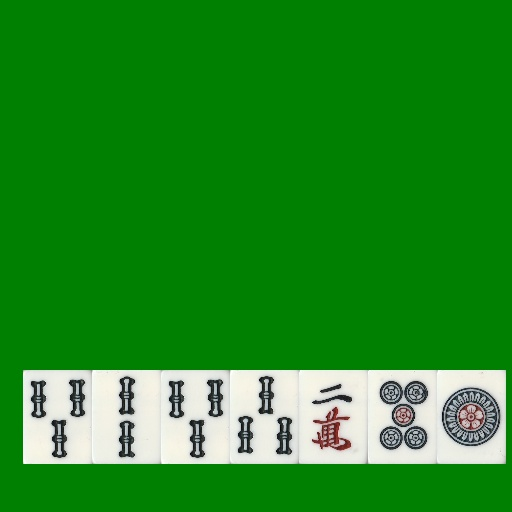1p: (437, 370, 506, 464)
2m: (299, 370, 368, 464)
2s: (92, 370, 161, 464)
3s: (23, 370, 92, 464), (161, 370, 230, 464), (230, 370, 299, 464)
5p: (368, 370, 437, 464)
